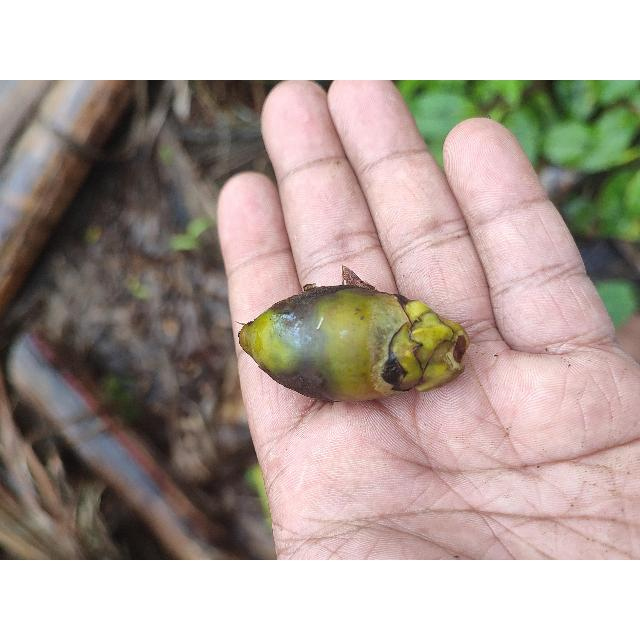damaged: (238, 284, 470, 404)
